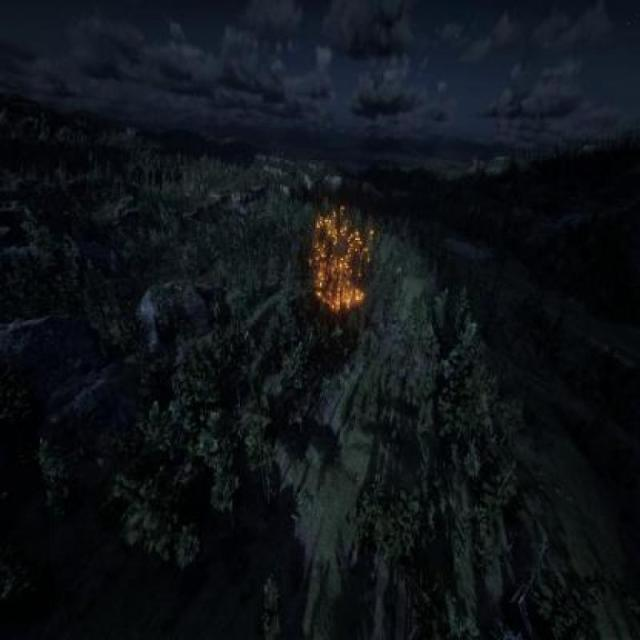Fire: (310, 181, 376, 311)
